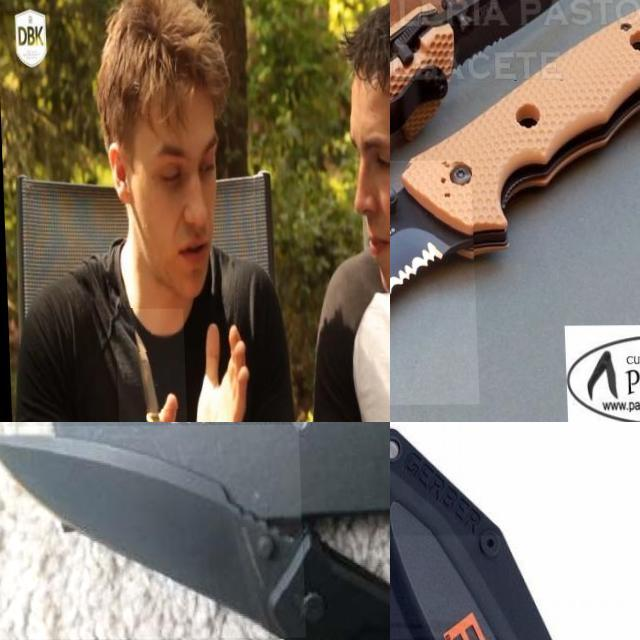-: (0, 424, 302, 640), (390, 160, 547, 406), (446, 0, 637, 76), (390, 509, 458, 640), (112, 308, 186, 422)
